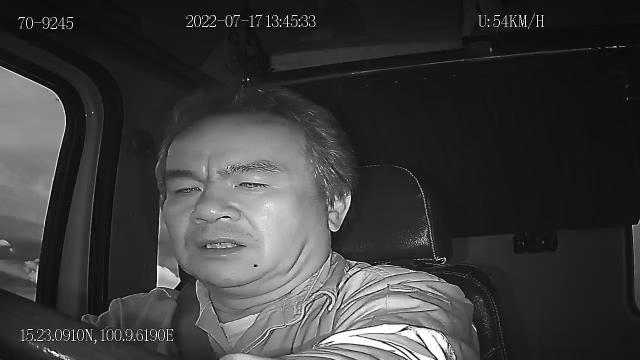SafeDriving: (227, 169, 277, 196), (163, 172, 206, 202)
Seatbelt: (168, 274, 220, 360)
